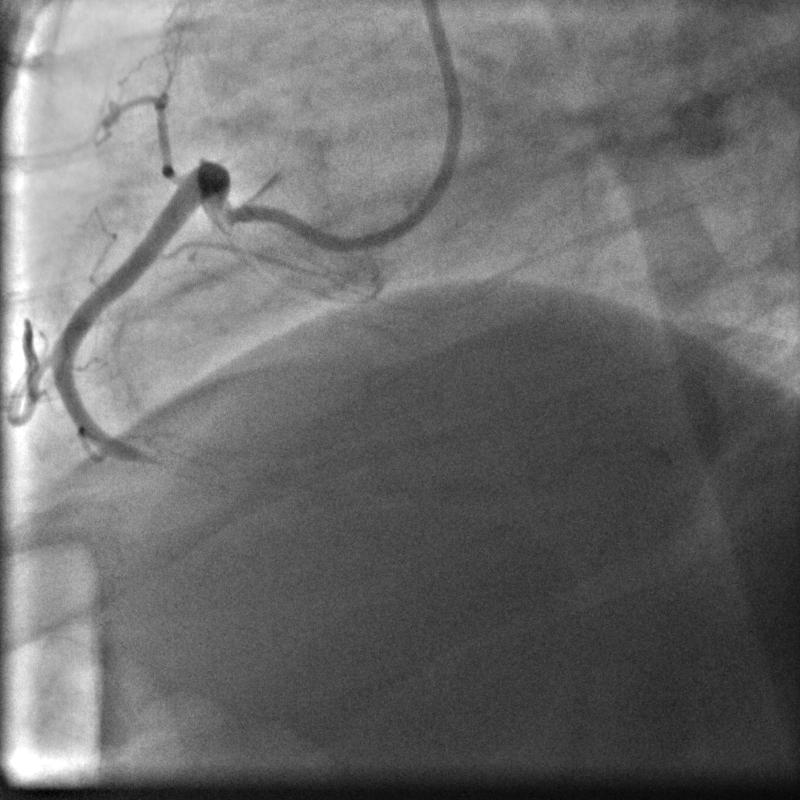Stenosis: (126, 440, 178, 469)
